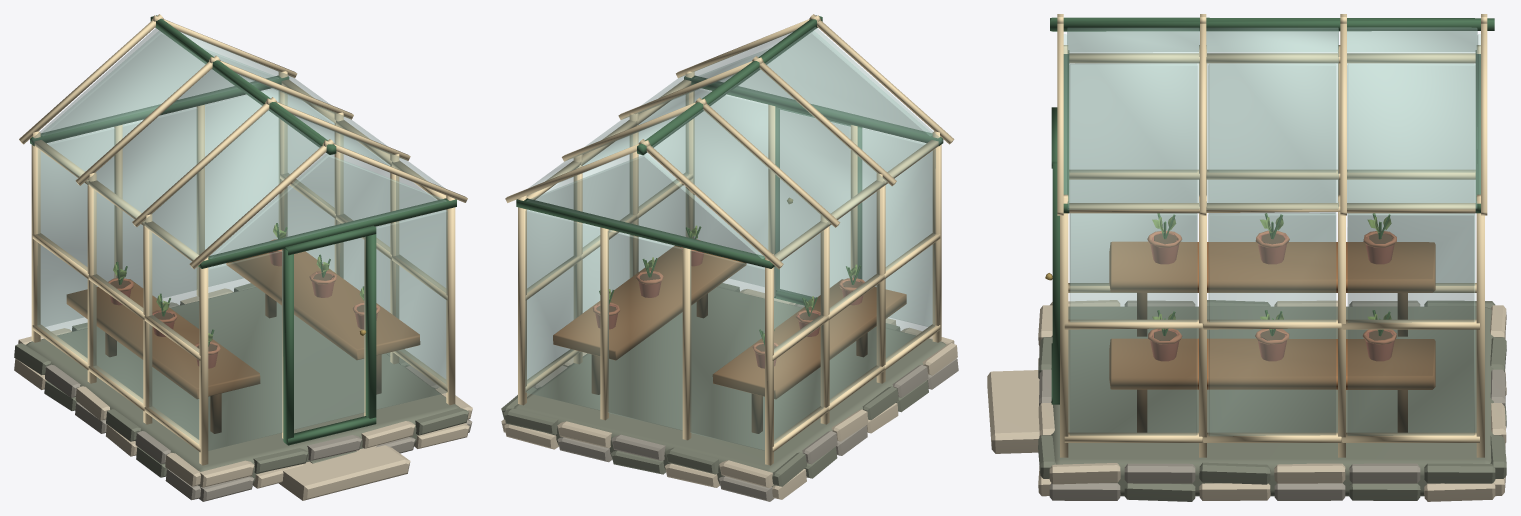
File: invernadero_lod.glb
3 renders of one model, left to right at view 1: azimuth 30°, elevation 25°; view 2: azimuth 150°, elevation 25°; view 3: azimuth 270°, elevation 25°, orthographic. The views are drawn at different scales.
Parts seen in each view (by area): view 1: invernadero; view 2: invernadero; view 3: invernadero.
Boxes of the visible parts, <box> form: invernadero: <box>14,14,472,501</box>; invernadero: <box>501,14,958,501</box>; invernadero: <box>987,14,1506,501</box>.
Size of the model in its own units: 2.33 by 2.58 by 2.99.
